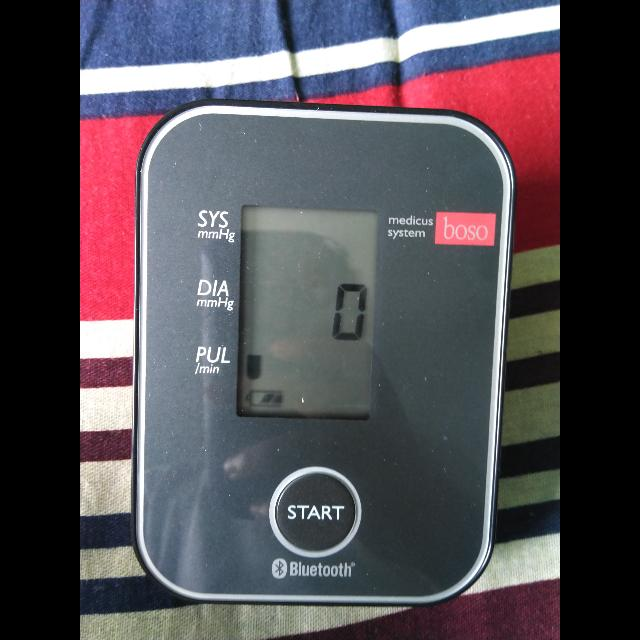Blood-Pressure-Monitor: (119, 84, 527, 612)
